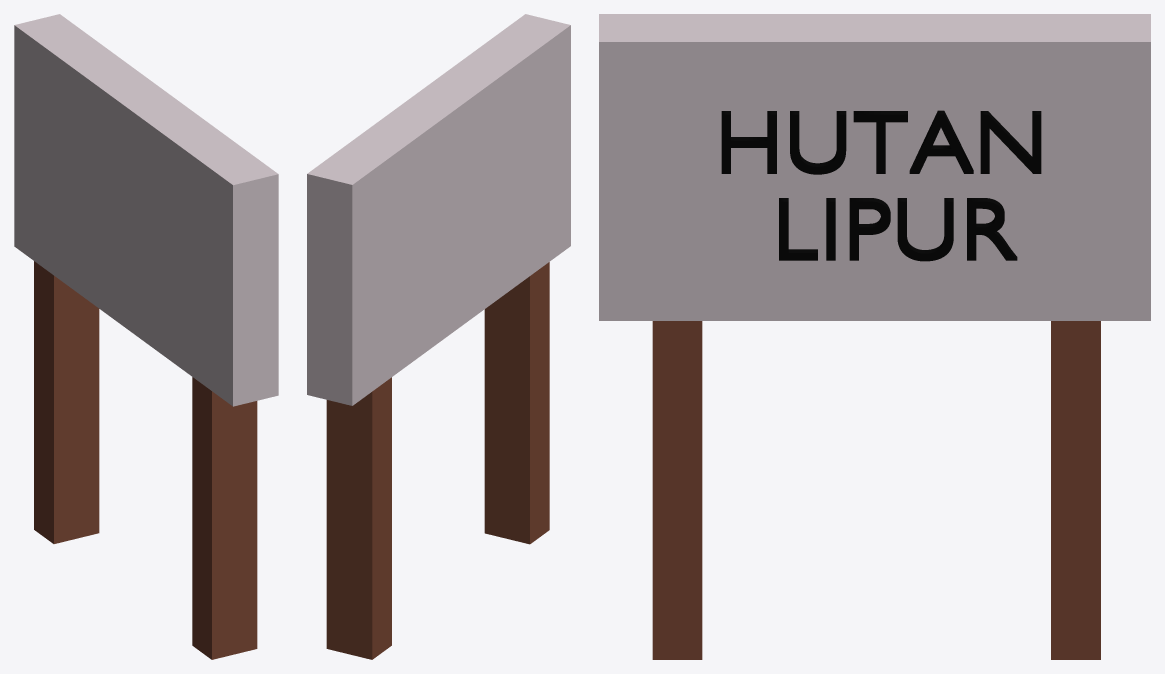
Rendered from sign3.fbx.
The picture shows the model from 3 angles, left to right: view 1: azimuth 30°, elevation 25°; view 2: azimuth 150°, elevation 25°; view 3: azimuth 270°, elevation 25°; orthographic projection. The views are drawn at different scales.
Visible parts, largest first — view 1: Cube.002; view 2: Cube.002; view 3: Cube.002, Text.
Boxes of the visible parts, bbox=[...] form: Cube.002: bbox=[14, 14, 278, 659]; Cube.002: bbox=[307, 14, 570, 659]; Cube.002: bbox=[599, 14, 1150, 659]; Text: bbox=[721, 110, 1041, 261].
Size of the model in its own units: 154 by 1400 by 1132.
